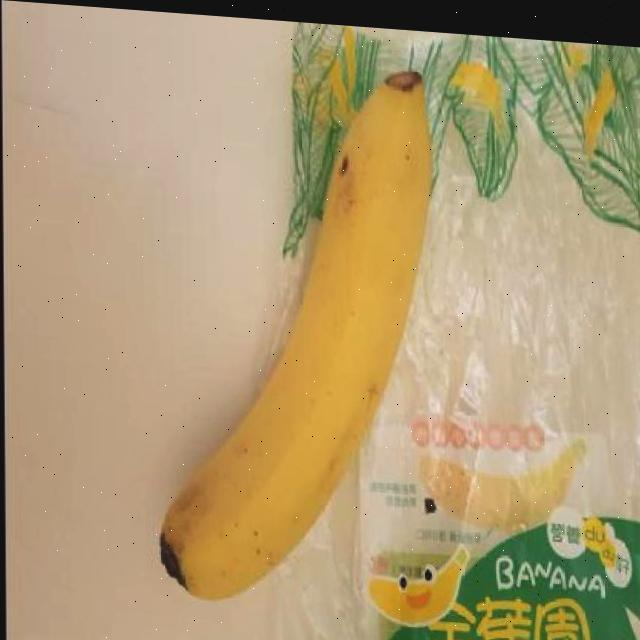banana: (145, 35, 451, 631)
